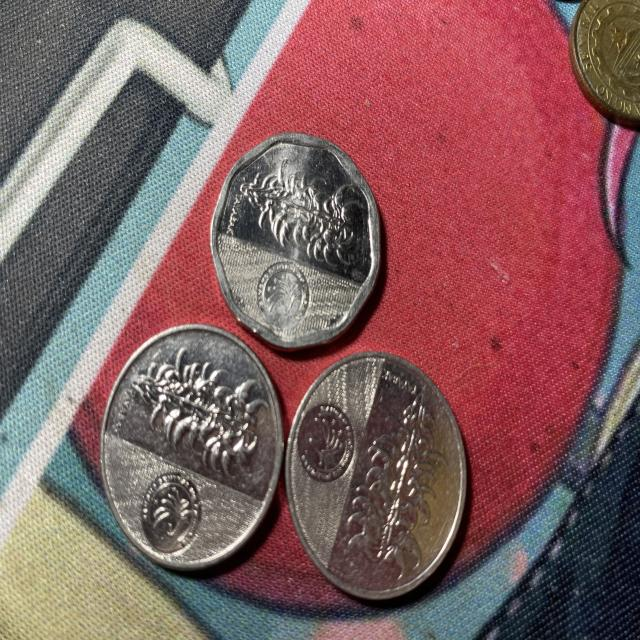5_New_Back: (348, 390, 445, 576), (124, 358, 258, 475), (230, 160, 364, 266)
